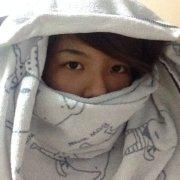WRONG: (47, 45, 138, 136)
